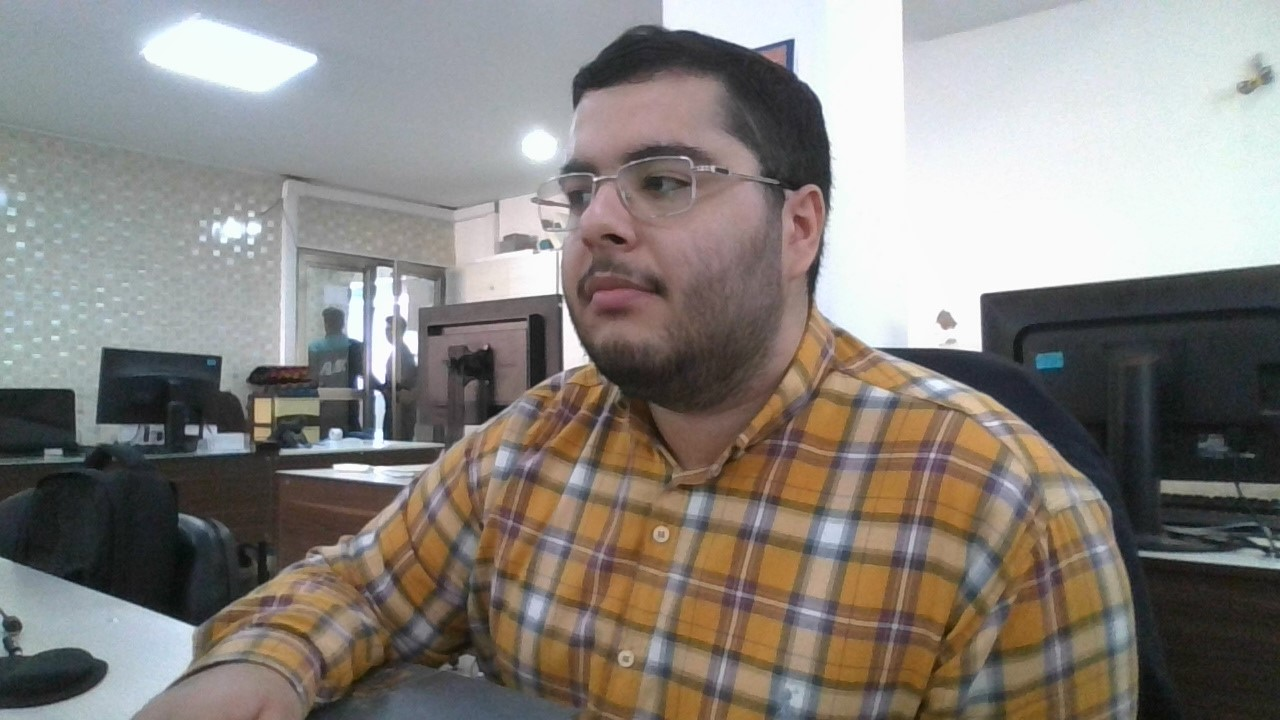NoMask: (557, 205, 793, 408)
